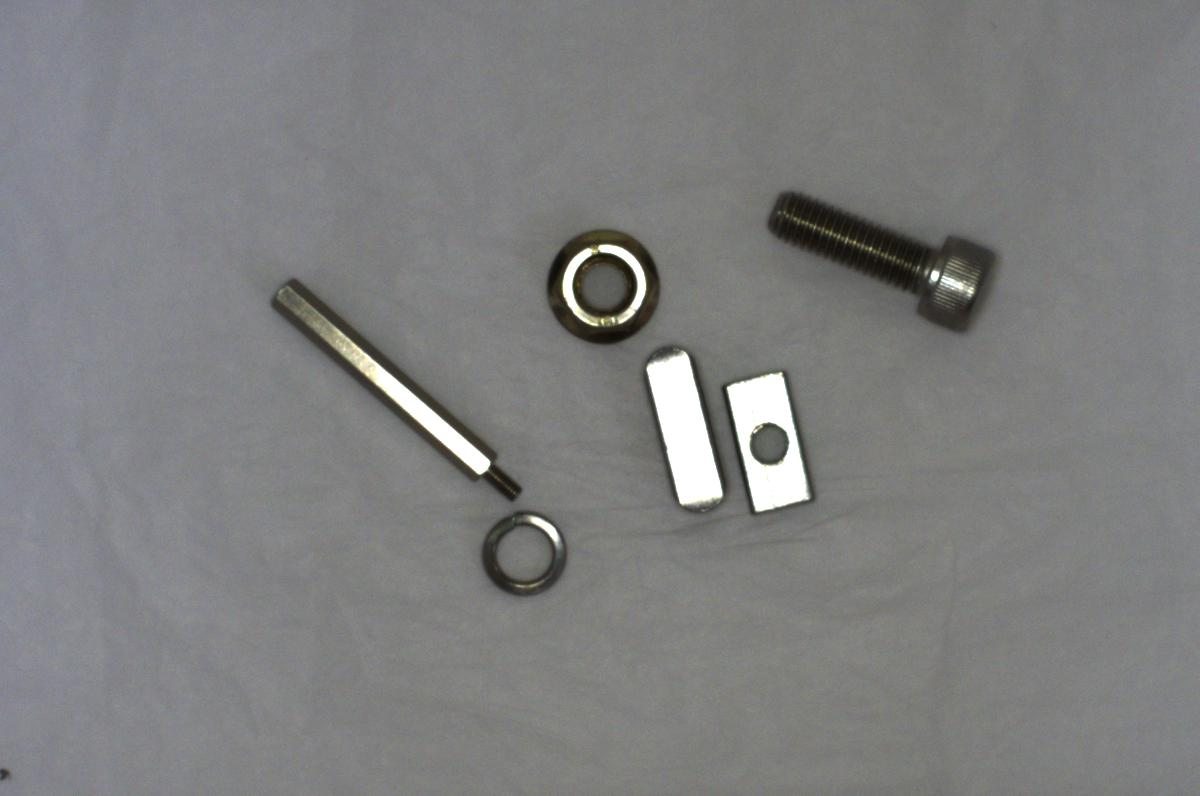Flange nut: (529, 221, 665, 346)
Hexagon screw: (758, 178, 1007, 348)
Hexagonal steel column: (269, 274, 532, 505)
Keybar: (628, 333, 729, 519)
Rectangular nut: (721, 360, 816, 518)
Spring washer: (474, 508, 571, 601)
